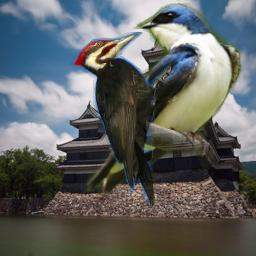Swallow: (84, 3, 242, 196)
Woodpecker: (68, 32, 171, 206)
